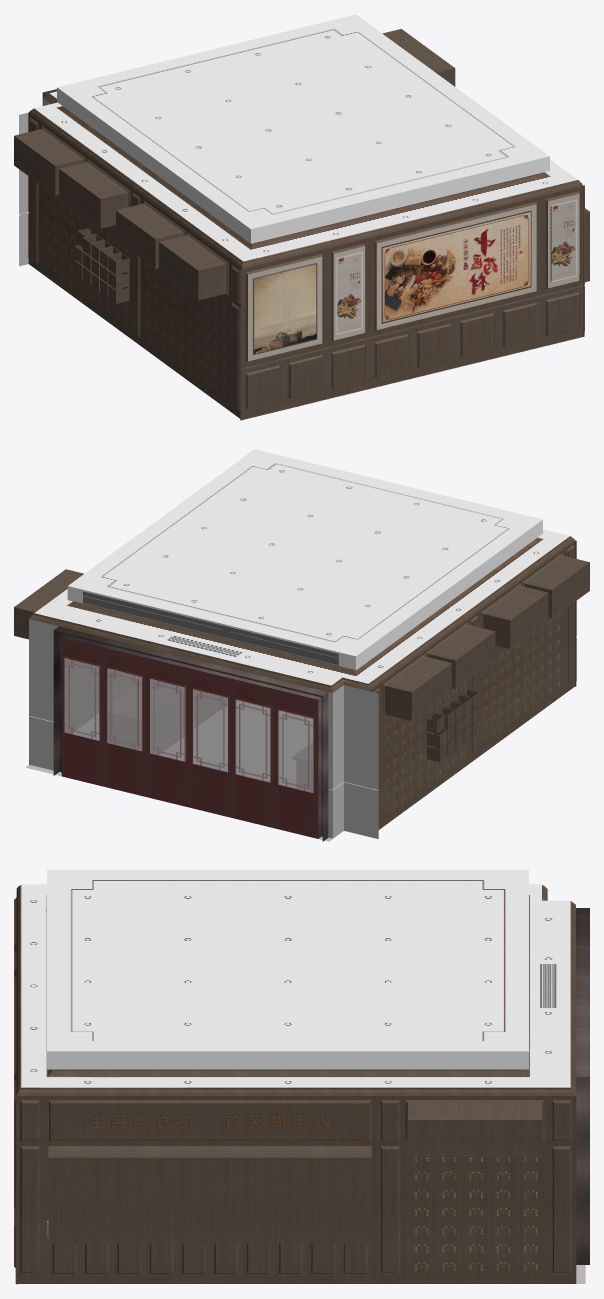
Rendered from zhongyaofang.fbx.
3 renders of one model, top to bottom at view 1: azimuth 30°, elevation 25°; view 2: azimuth 150°, elevation 25°; view 3: azimuth 270°, elevation 25°, orthographic. The views are drawn at different scales.
Visible parts, largest first — view 1: zhongyaofang010, zhongyaofang, zhongyaofang02, zhongyaofang04, zhongyaofang05; view 2: zhongyaofang010, zhongyaofang06, zhongyaofang02, bl, zhongyaofang05 (×2), Shape001, zhongyaofang04, zhongyaofang013, zhongyaofang012; view 3: zhongyaofang010, zhongyaofang04, zhongyaofang06, zhongyaofang.
Boxes of the visible parts, box(x1,y1,x2,y2) form: zhongyaofang010: box(28, 14, 582, 268); zhongyaofang: box(240, 185, 584, 420); zhongyaofang02: box(14, 113, 241, 419); zhongyaofang04: box(382, 29, 589, 336); zhongyaofang05: box(19, 98, 50, 266); zhongyaofang010: box(29, 449, 574, 692); zhongyaofang06: box(53, 626, 328, 841); zhongyaofang02: box(369, 541, 589, 836); bl: box(64, 658, 313, 792); zhongyaofang05 (×2): box(29, 619, 378, 839); Shape001: box(26, 701, 368, 841); zhongyaofang04: box(14, 569, 141, 764); zhongyaofang013: box(108, 691, 226, 753); zhongyaofang012: box(108, 680, 183, 721); zhongyaofang010: box(16, 870, 575, 1095); zhongyaofang04: box(15, 1096, 576, 1283); zhongyaofang06: box(576, 908, 589, 1264); zhongyaofang: box(14, 897, 17, 1284).
Bounding box in the file's own units: 8.03 × 3.39 × 8.05.
